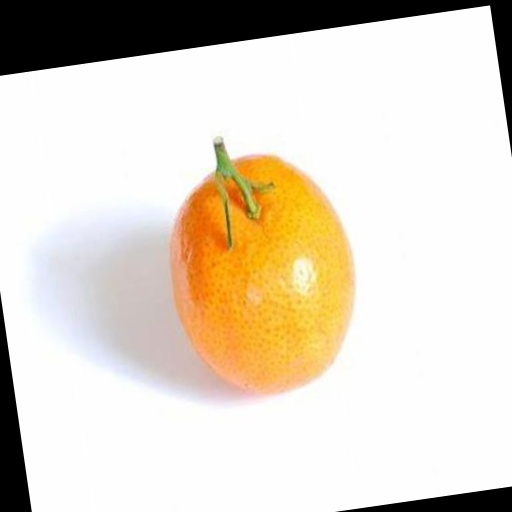fruit: (171, 139, 354, 392)
